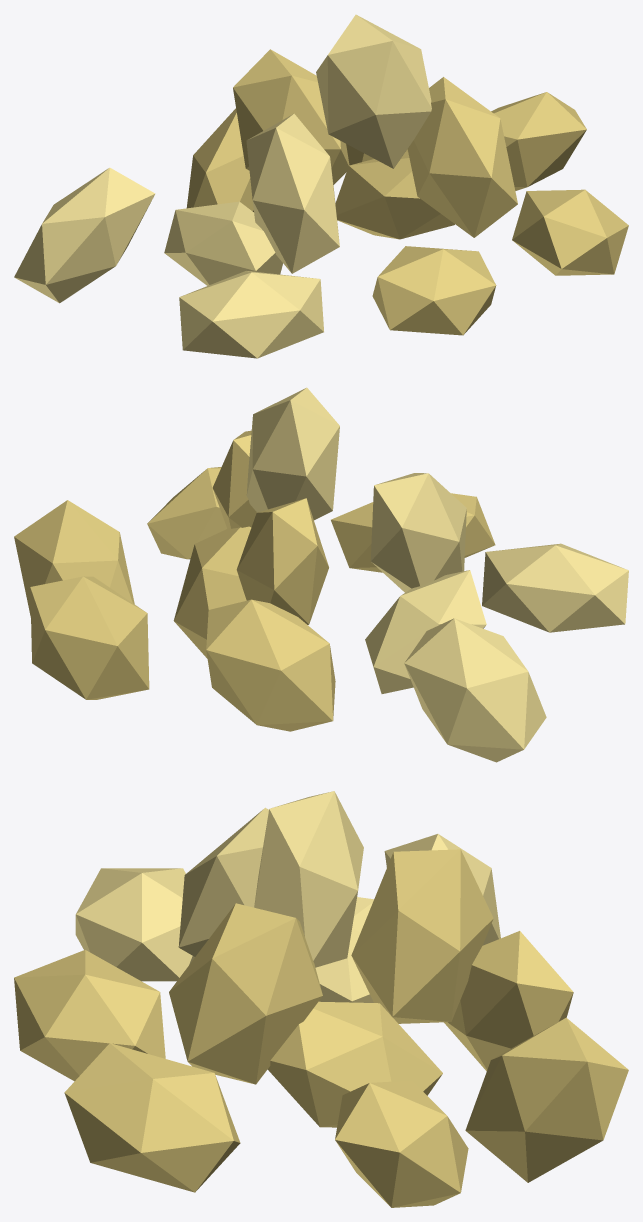
The model's file is harvest_drop_soybean.glb.
3 renders of one model, top to bottom at view 1: azimuth 30°, elevation 25°; view 2: azimuth 150°, elevation 25°; view 3: azimuth 270°, elevation 25°, orthographic. The views are drawn at different scales.
Parts seen in each view (by area): view 1: Soybean_01, Soybean_00; view 2: Soybean_01, Soybean_00; view 3: Soybean_01, Soybean_00.
Part boxes in pixels (bbox=[...]): Soybean_01: bbox=[186, 49, 628, 335]; Soybean_00: bbox=[14, 14, 431, 358]; Soybean_01: bbox=[14, 430, 495, 731]; Soybean_00: bbox=[246, 387, 628, 762]; Soybean_01: bbox=[14, 849, 628, 1207]; Soybean_00: bbox=[75, 791, 500, 1002].
Size of the model in its own units: 0.7247 by 0.3452 by 0.5921.
